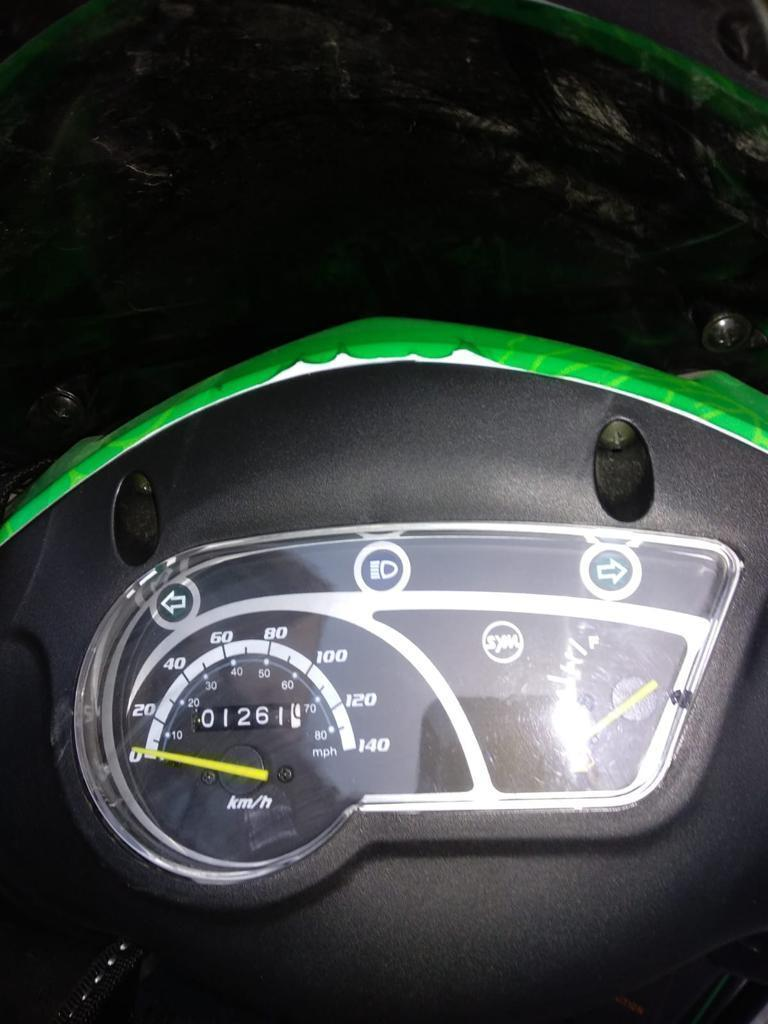0: (200, 707, 215, 729), (292, 701, 302, 720), (193, 699, 200, 707)
1: (275, 703, 285, 726), (220, 706, 230, 728)
2: (235, 706, 251, 727), (188, 700, 193, 708)
6: (254, 704, 269, 725)
odometer: (187, 699, 305, 735)
